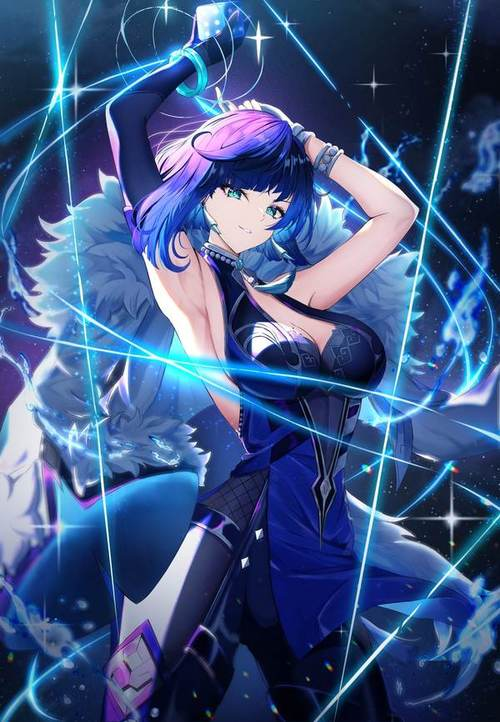夜兰: (91, 1, 423, 722)
